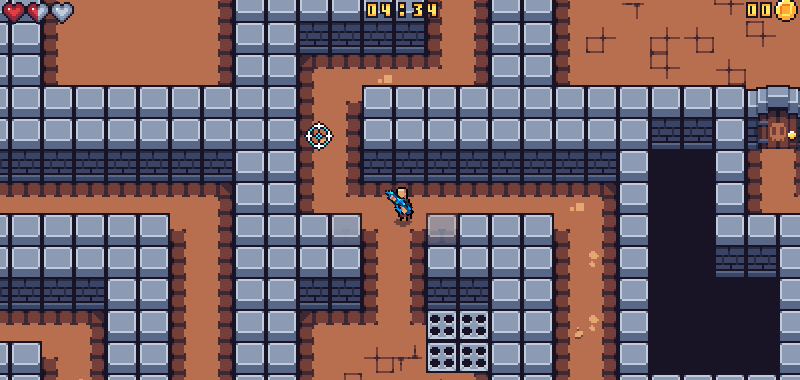door: (745, 84, 800, 150)
trap_off: (426, 310, 489, 370)
